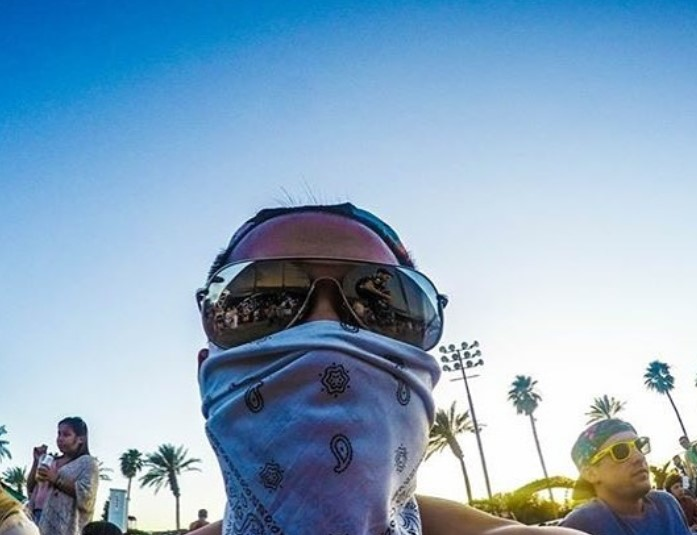face_no_mask: (54, 418, 86, 459), (661, 473, 686, 498)
